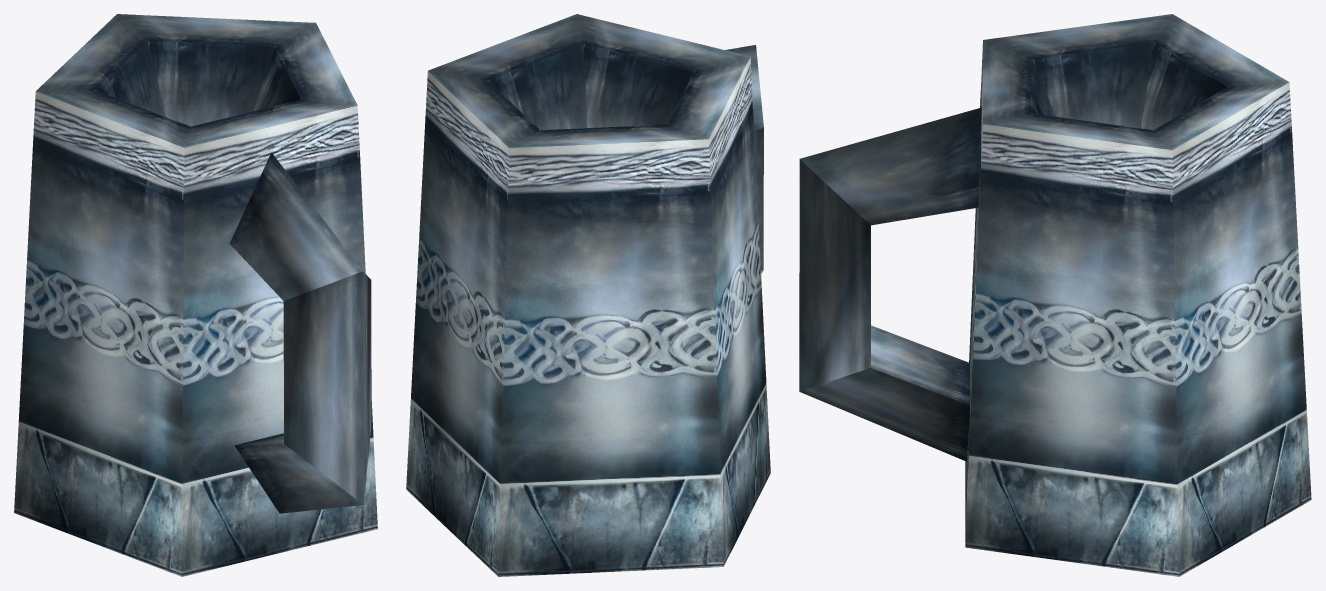
Rendered from mug02.obj.
3 renders of one model, left to right at view 1: azimuth 30°, elevation 25°; view 2: azimuth 150°, elevation 25°; view 3: azimuth 270°, elevation 25°, orthographic.
Parts seen in each view (by area): view 1: mug02; view 2: mug02; view 3: mug02.
Boxes of the visible parts, x1,y1,x2,y2 form: mug02: [14, 14, 377, 576]; mug02: [406, 14, 770, 576]; mug02: [799, 14, 1311, 576].
Bounding box in the file's own units: 0.3782 × 0.4789 × 0.5319.
Materials: 1 (1 with a texture image).
